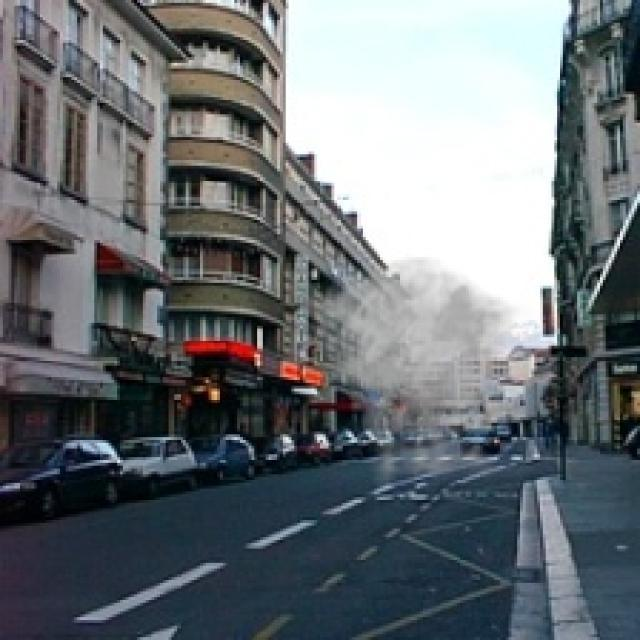Smoke: (302, 255, 534, 494)
